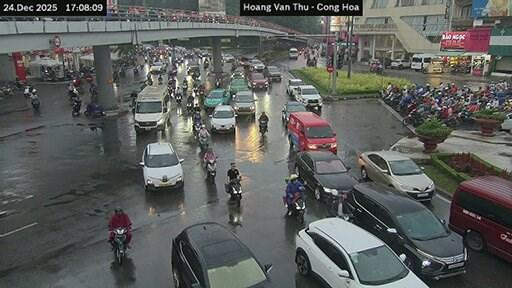motorbike: (327, 189, 352, 220), (282, 192, 304, 223), (112, 228, 127, 264), (403, 108, 423, 126), (227, 179, 239, 206), (83, 103, 105, 116), (205, 158, 216, 183), (71, 100, 80, 116), (192, 121, 201, 135), (0, 85, 12, 94), (199, 135, 207, 148), (259, 121, 266, 135), (185, 100, 192, 113), (31, 98, 38, 109), (198, 86, 204, 97), (175, 93, 181, 103), (214, 77, 220, 86), (192, 86, 197, 95), (157, 75, 162, 84), (25, 85, 31, 91), (24, 91, 29, 98), (133, 67, 137, 75), (147, 78, 151, 85), (204, 62, 208, 68), (182, 84, 185, 90), (300, 185, 304, 189), (182, 91, 185, 94)
